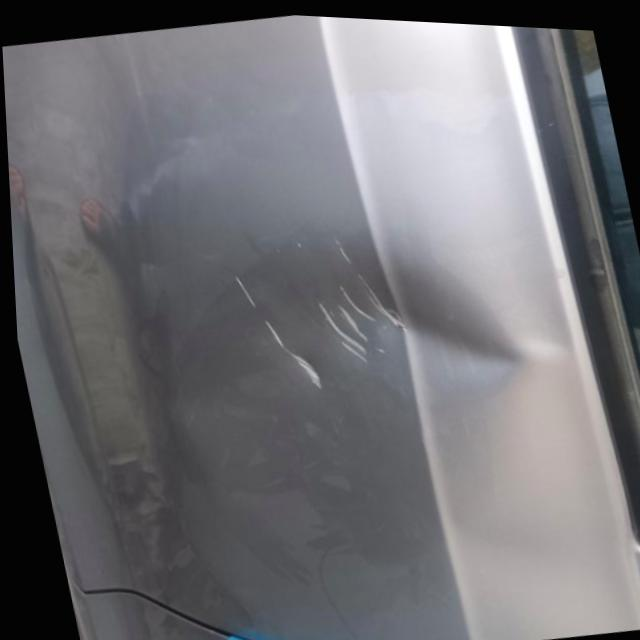Dent: (251, 232, 517, 418)
Scratch: (231, 272, 322, 392), (326, 231, 410, 337), (316, 302, 366, 356), (335, 279, 378, 326), (336, 305, 370, 344), (338, 341, 366, 361)
